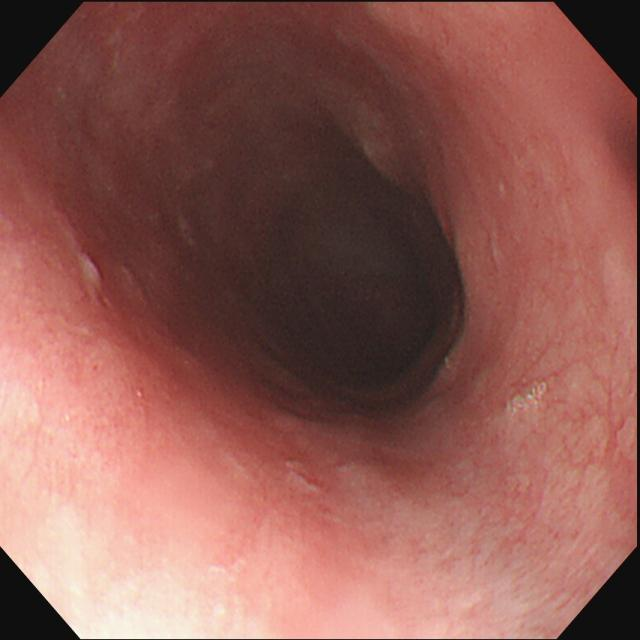E: (177, 109, 467, 405)
